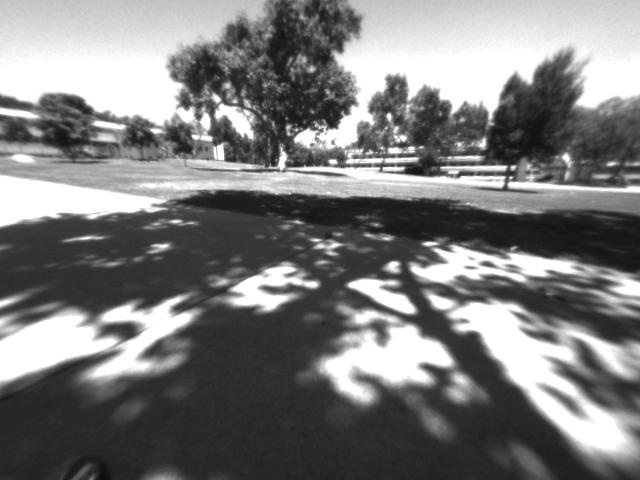dogtoy: (317, 227, 343, 244)
